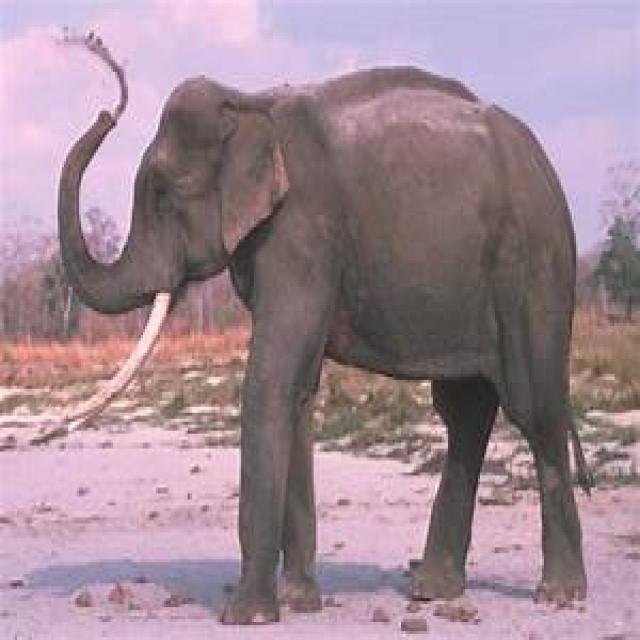elephant: (58, 66, 589, 628)
